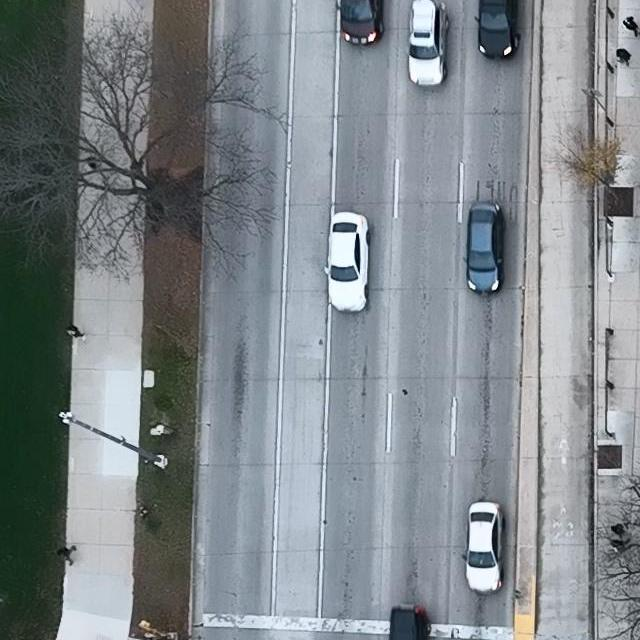car: (324, 211, 372, 313), (461, 501, 505, 594), (462, 201, 504, 296), (408, 0, 450, 88), (474, 0, 519, 59), (335, 0, 385, 46), (388, 607, 433, 640)
